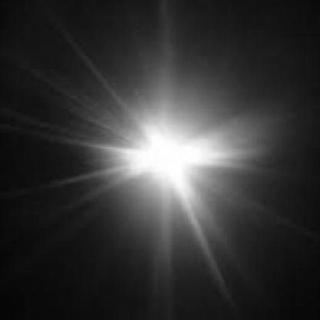other: (101, 120, 232, 216)
